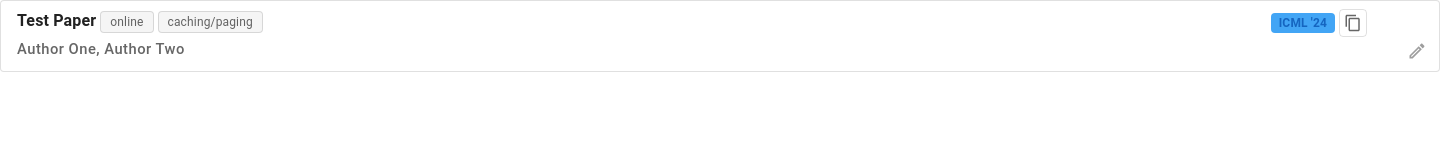
Test: PaperCard database date › shows the database date only after the paper is opened
Expected: the text "Database updated: Oct 20, 2026" is not shown
Click the heading "Test Paper".
click(57, 20)  # box [17,11,96,30]
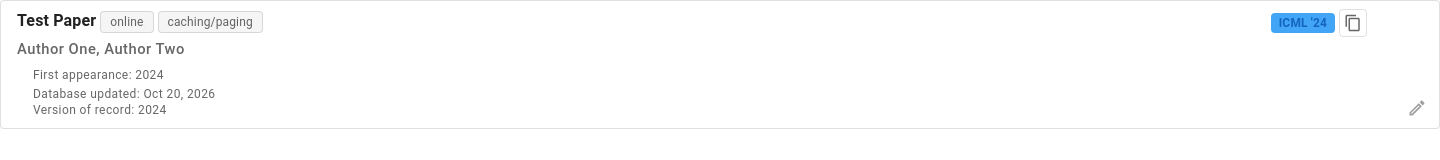
Expected: the text "First appearance: 2024" is shown, [33,68,164,82]
Expected: the text "Database updated: Oct 20, 2026" is shown, [33,87,216,101]
Expected: the text "Version of record: 2024" is shown, [33,103,167,117]
